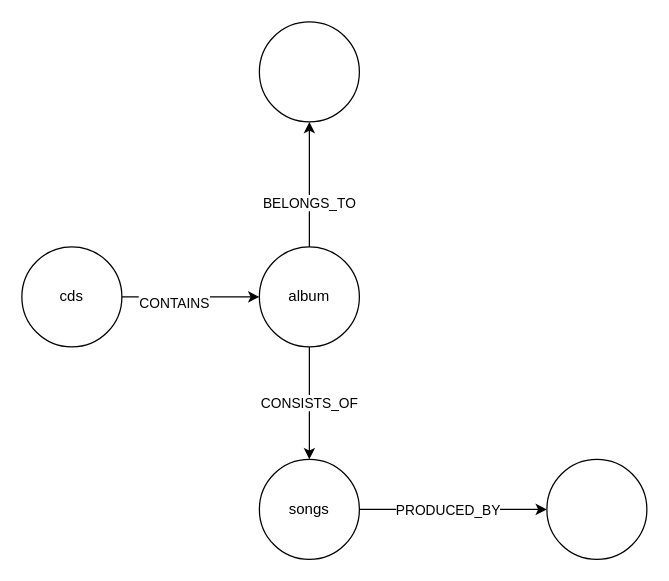
Image size: 669x581. Some labels were removed from this diagram. Each missing label, with the centre of its shape:
artists: the point at 596,508
genres: the point at 308,71
